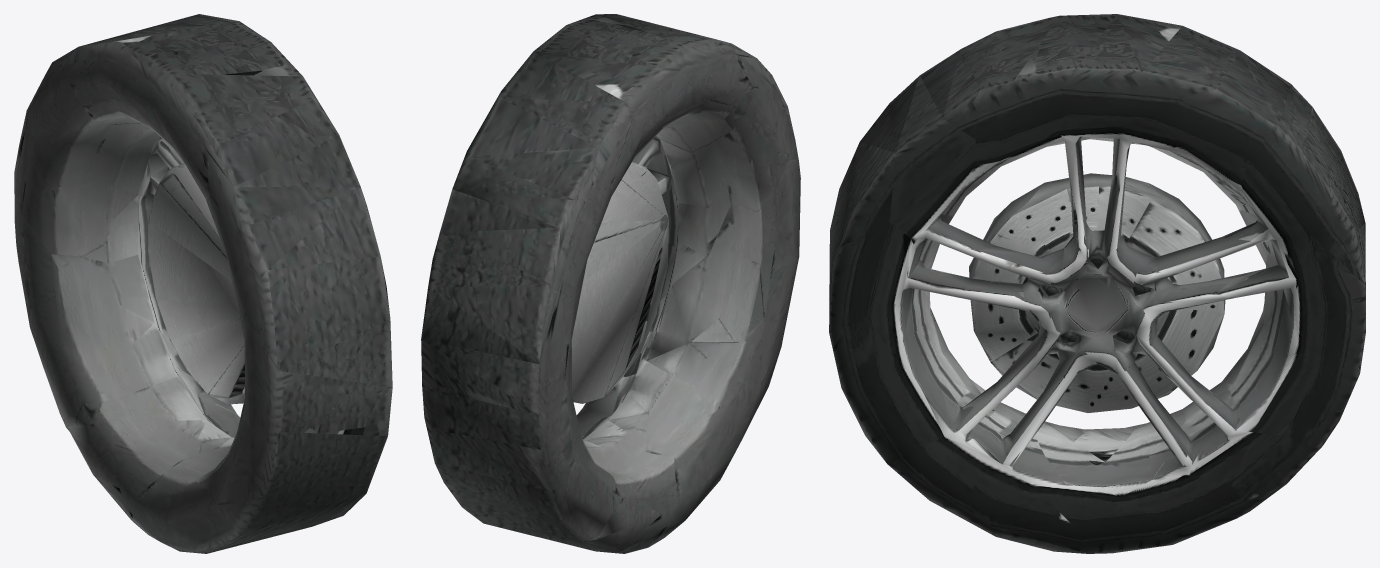
File: polke_performance_wheel.obj
3 views of the same model, side by side, from view 1: azimuth 30°, elevation 25°; view 2: azimuth 150°, elevation 25°; view 3: azimuth 270°, elevation 25° (orthographic). The views are drawn at different scales.
Visible parts, largest first — view 1: wheel; view 2: wheel; view 3: wheel.
Part boxes in pixels (x1,y1,x2,y2): wheel: (14,14,392,553); wheel: (421,14,800,553); wheel: (829,14,1365,553).
Bounding box in the file's own units: 0.2089 × 0.6965 × 0.6972.
